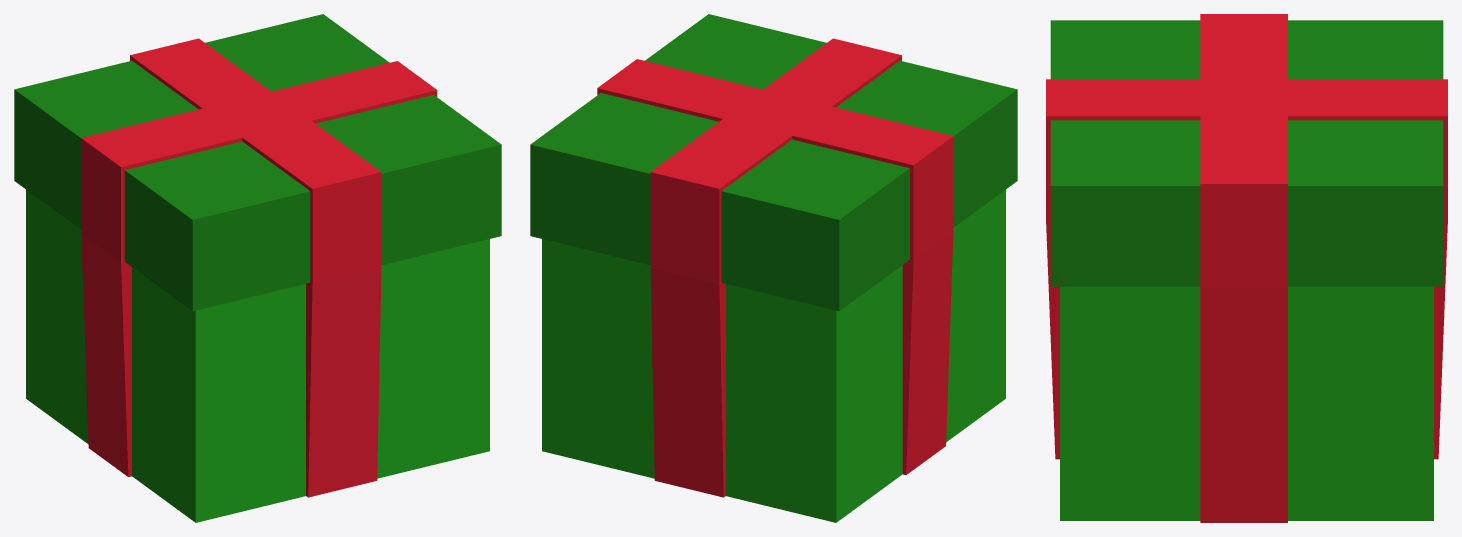
Rendered from present_green.glb.
3 renders of one model, left to right at view 1: azimuth 30°, elevation 25°; view 2: azimuth 150°, elevation 25°; view 3: azimuth 270°, elevation 25°, orthographic. The views are drawn at different scales.
Visible parts, largest first — view 1: Cube; view 2: Cube; view 3: Cube.
Part boxes in pixels (x1=…): Cube: x1=14, y1=14, x2=501, y2=522; Cube: x1=530, y1=14, x2=1017, y2=522; Cube: x1=1046, y1=14, x2=1447, y2=522.
Size of the model in its own units: 0.9675 by 0.9112 by 0.9675.
1 material, 1 textured.
